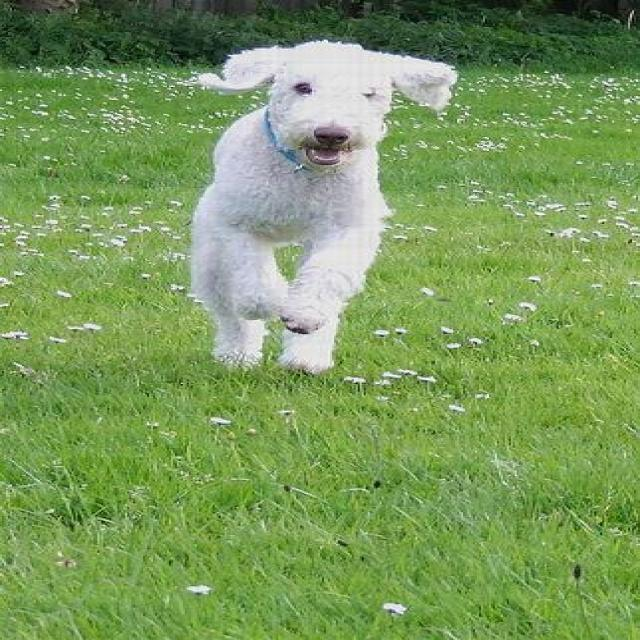adult_dog: (192, 38, 462, 377)
